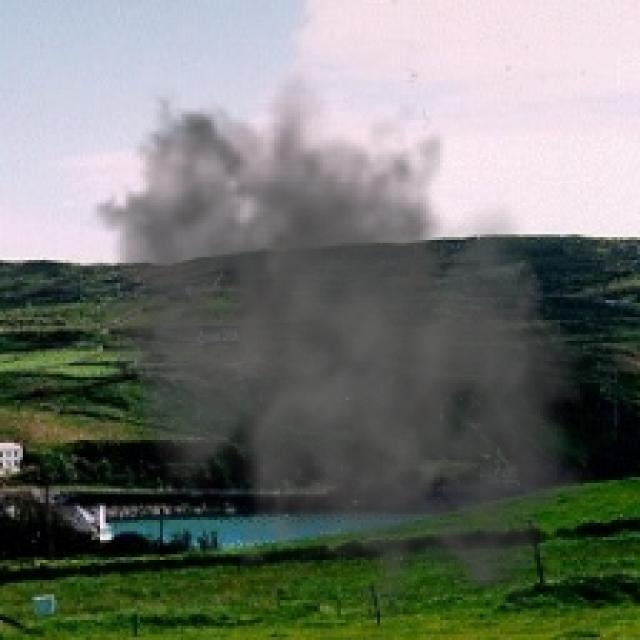smoke: (57, 66, 626, 634)
